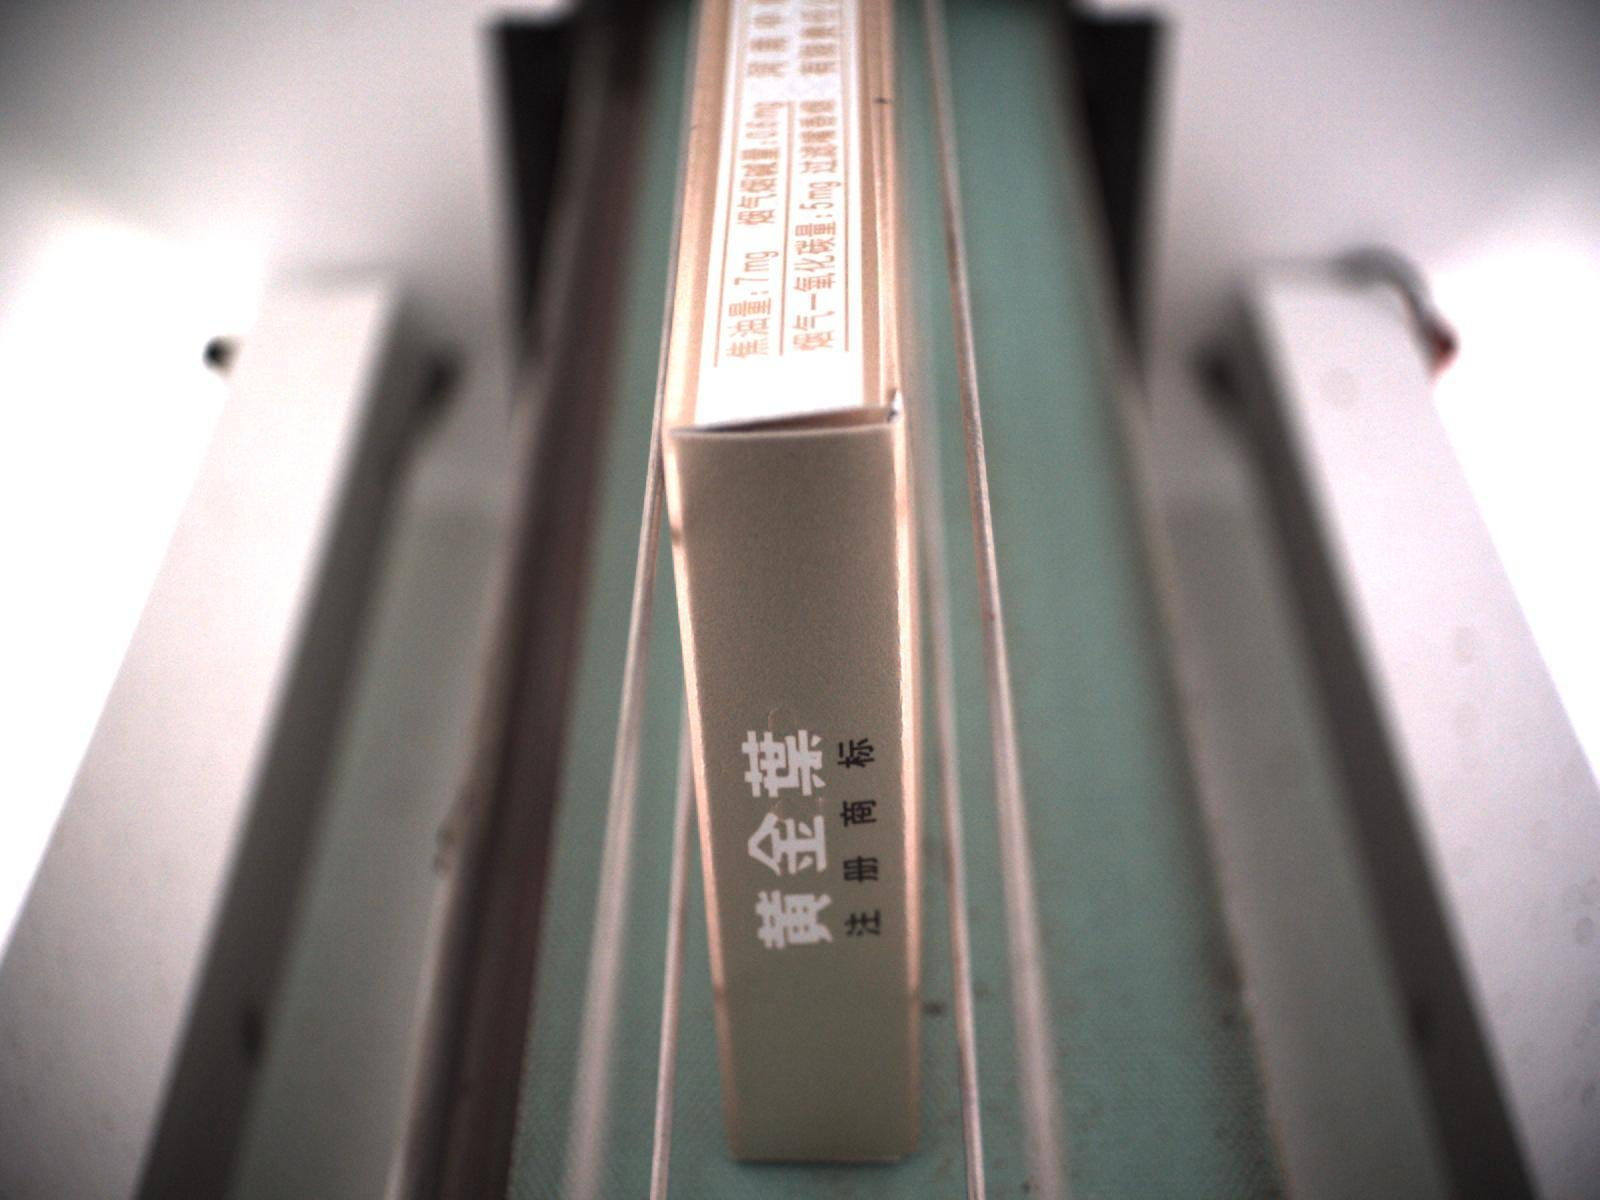bottomUpwarp_upper_3: (665, 397, 900, 442)
